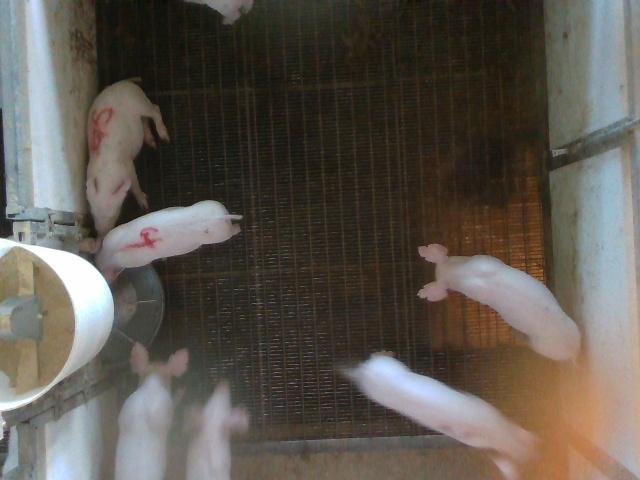pig-4: (95, 200, 241, 282)
pig-5: (86, 79, 170, 248)
